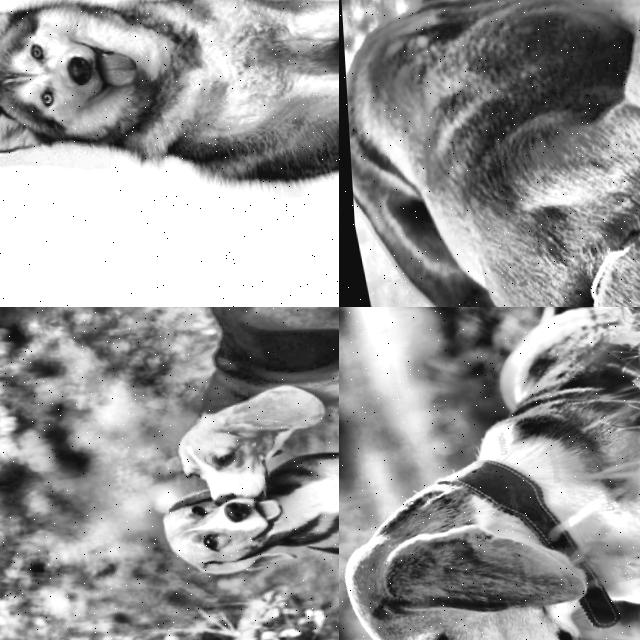beagle: (339, 435, 640, 640), (144, 362, 339, 517), (125, 460, 306, 599)
husky: (0, 0, 217, 214)
